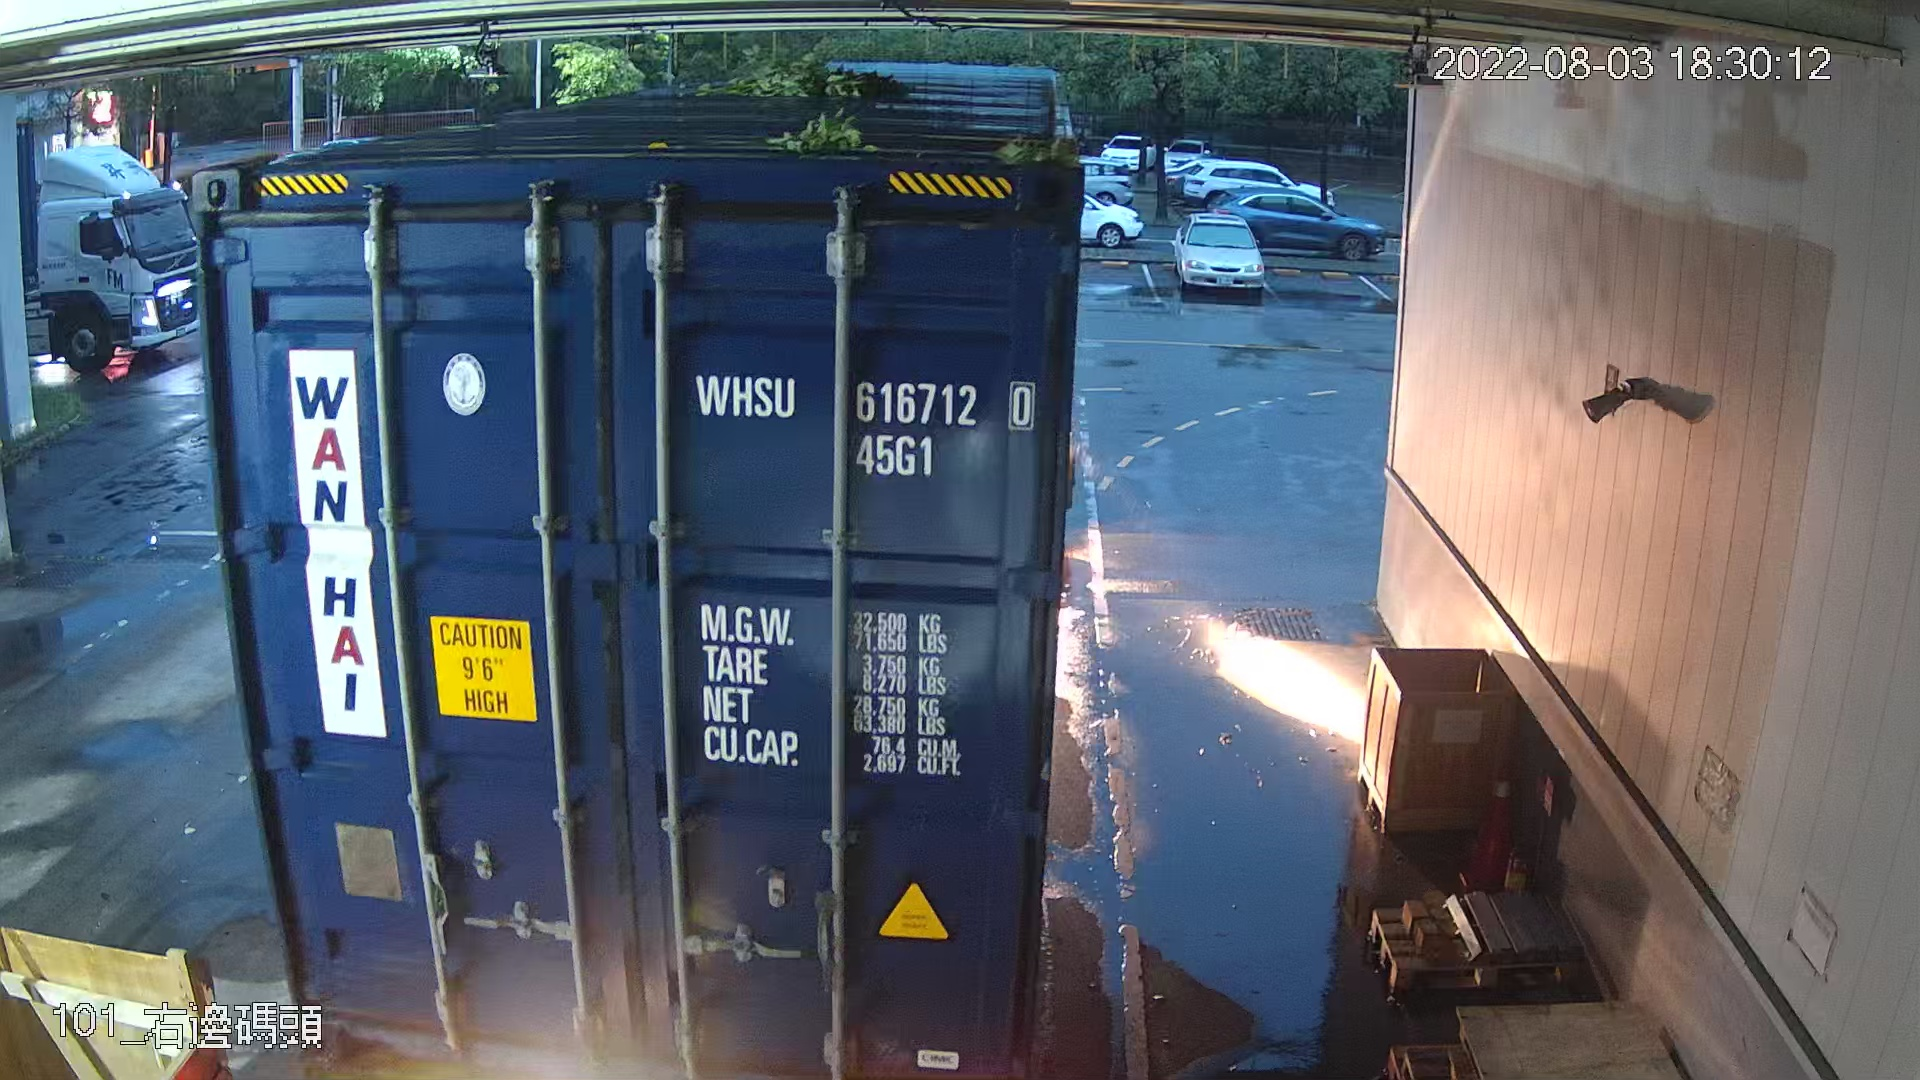container: (682, 351, 1044, 487)
